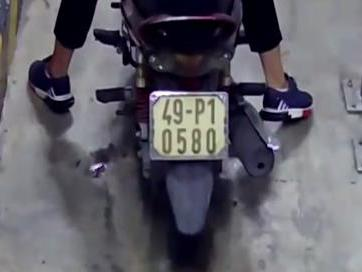num_plate: (149, 91, 230, 162)
